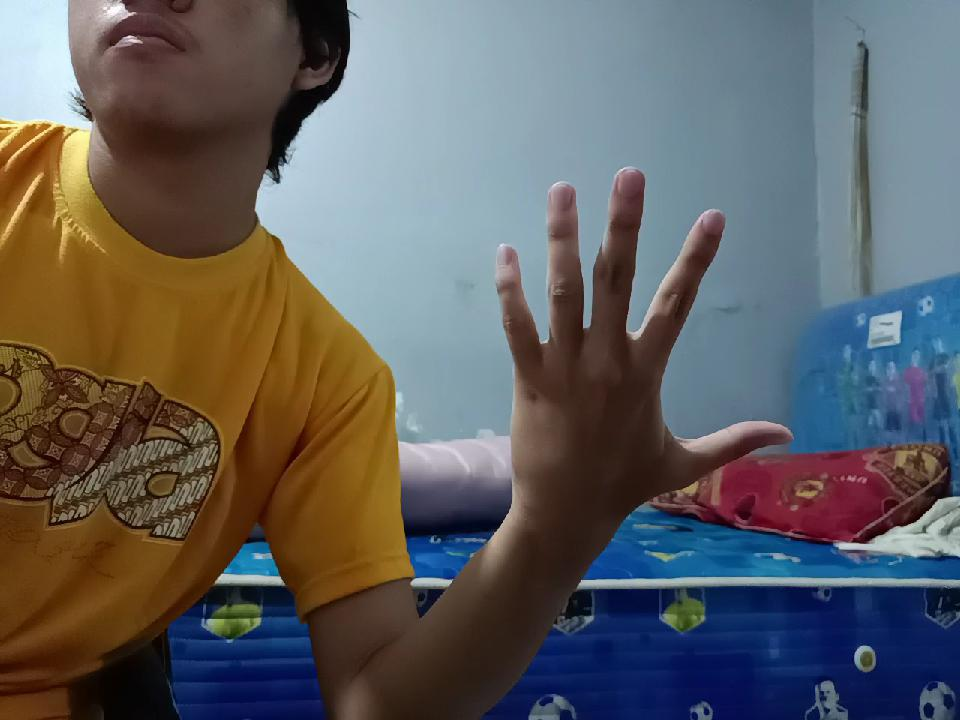paper: (490, 160, 745, 505)
